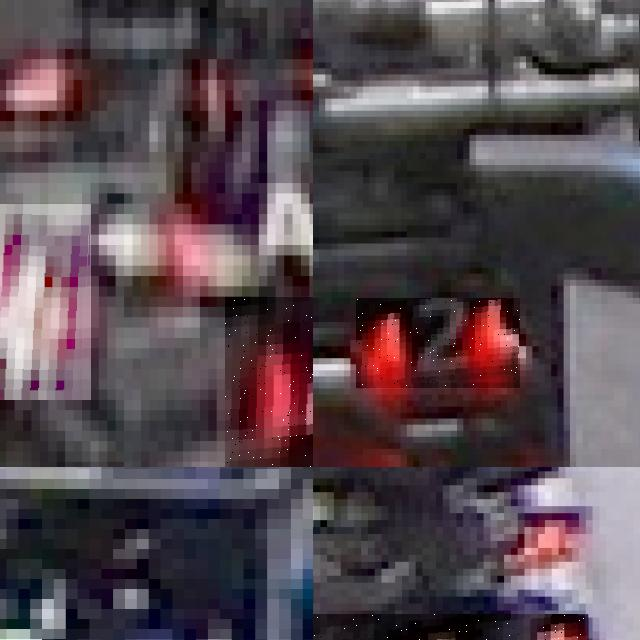R2: (356, 298, 520, 388)
R4: (0, 204, 90, 400), (225, 296, 313, 467)
